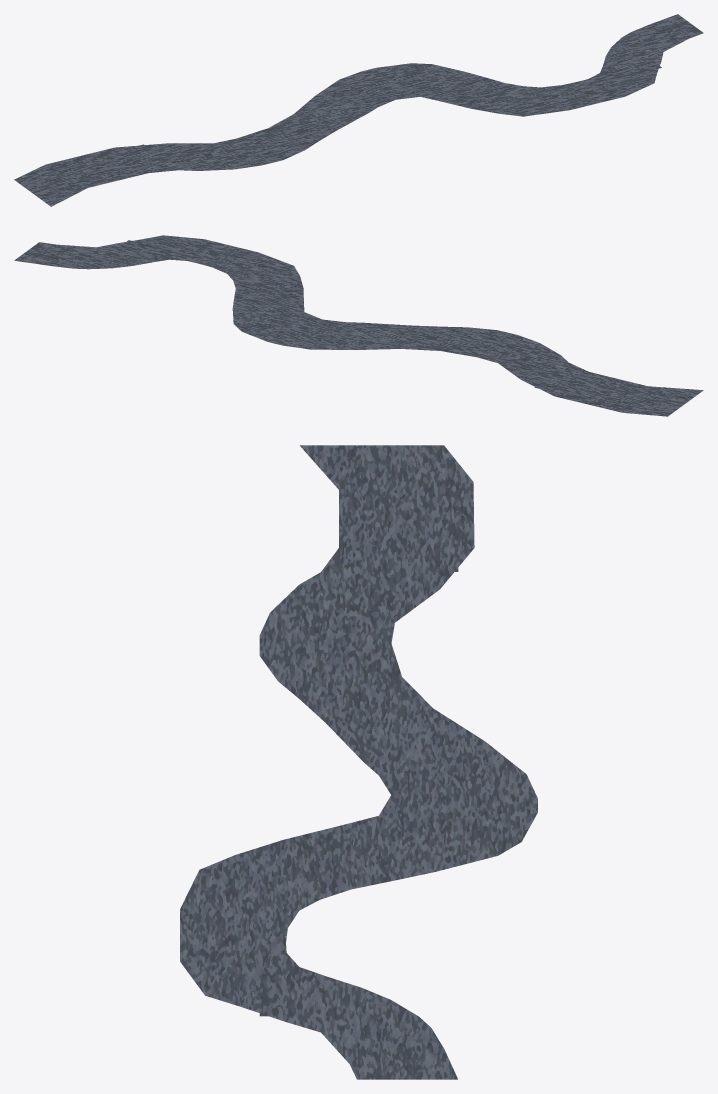
Rendered from smallPath_exported.fbx.
3 renders of one model, top to bottom at view 1: azimuth 30°, elevation 25°; view 2: azimuth 150°, elevation 25°; view 3: azimuth 270°, elevation 25°, orthographic. The views are drawn at different scales.
Visible parts, largest first — view 1: pPlane1; view 2: pPlane1; view 3: pPlane1.
Boxes of the visible parts, x1=… form: pPlane1: x1=14, y1=14, x2=703, y2=206; pPlane1: x1=14, y1=235, x2=703, y2=416; pPlane1: x1=180, y1=445, x2=537, y2=1079.
Bounding box in the file's own units: 24.94 × 4.44e-16 × 5.94.
